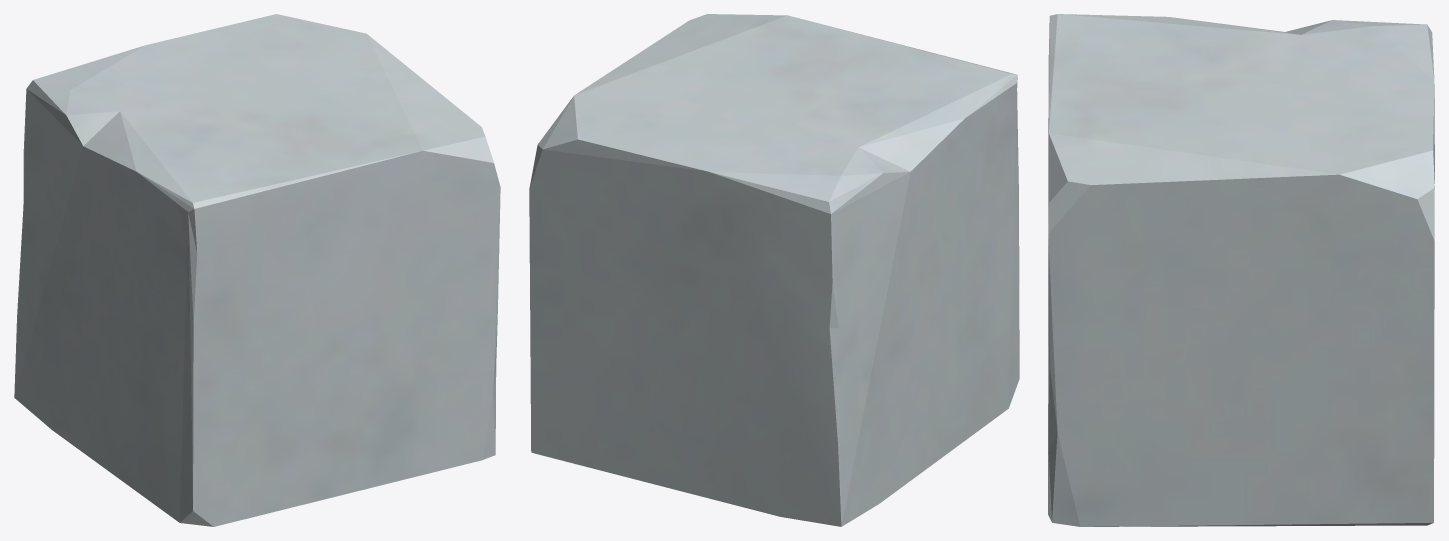
The model's file is P_RockCubic_Metric_2x2.obj.
3 renders of one model, left to right at view 1: azimuth 30°, elevation 25°; view 2: azimuth 150°, elevation 25°; view 3: azimuth 270°, elevation 25°, orthographic. The views are drawn at different scales.
Size of the model in its own units: 3.99 by 4.01 by 3.98.
